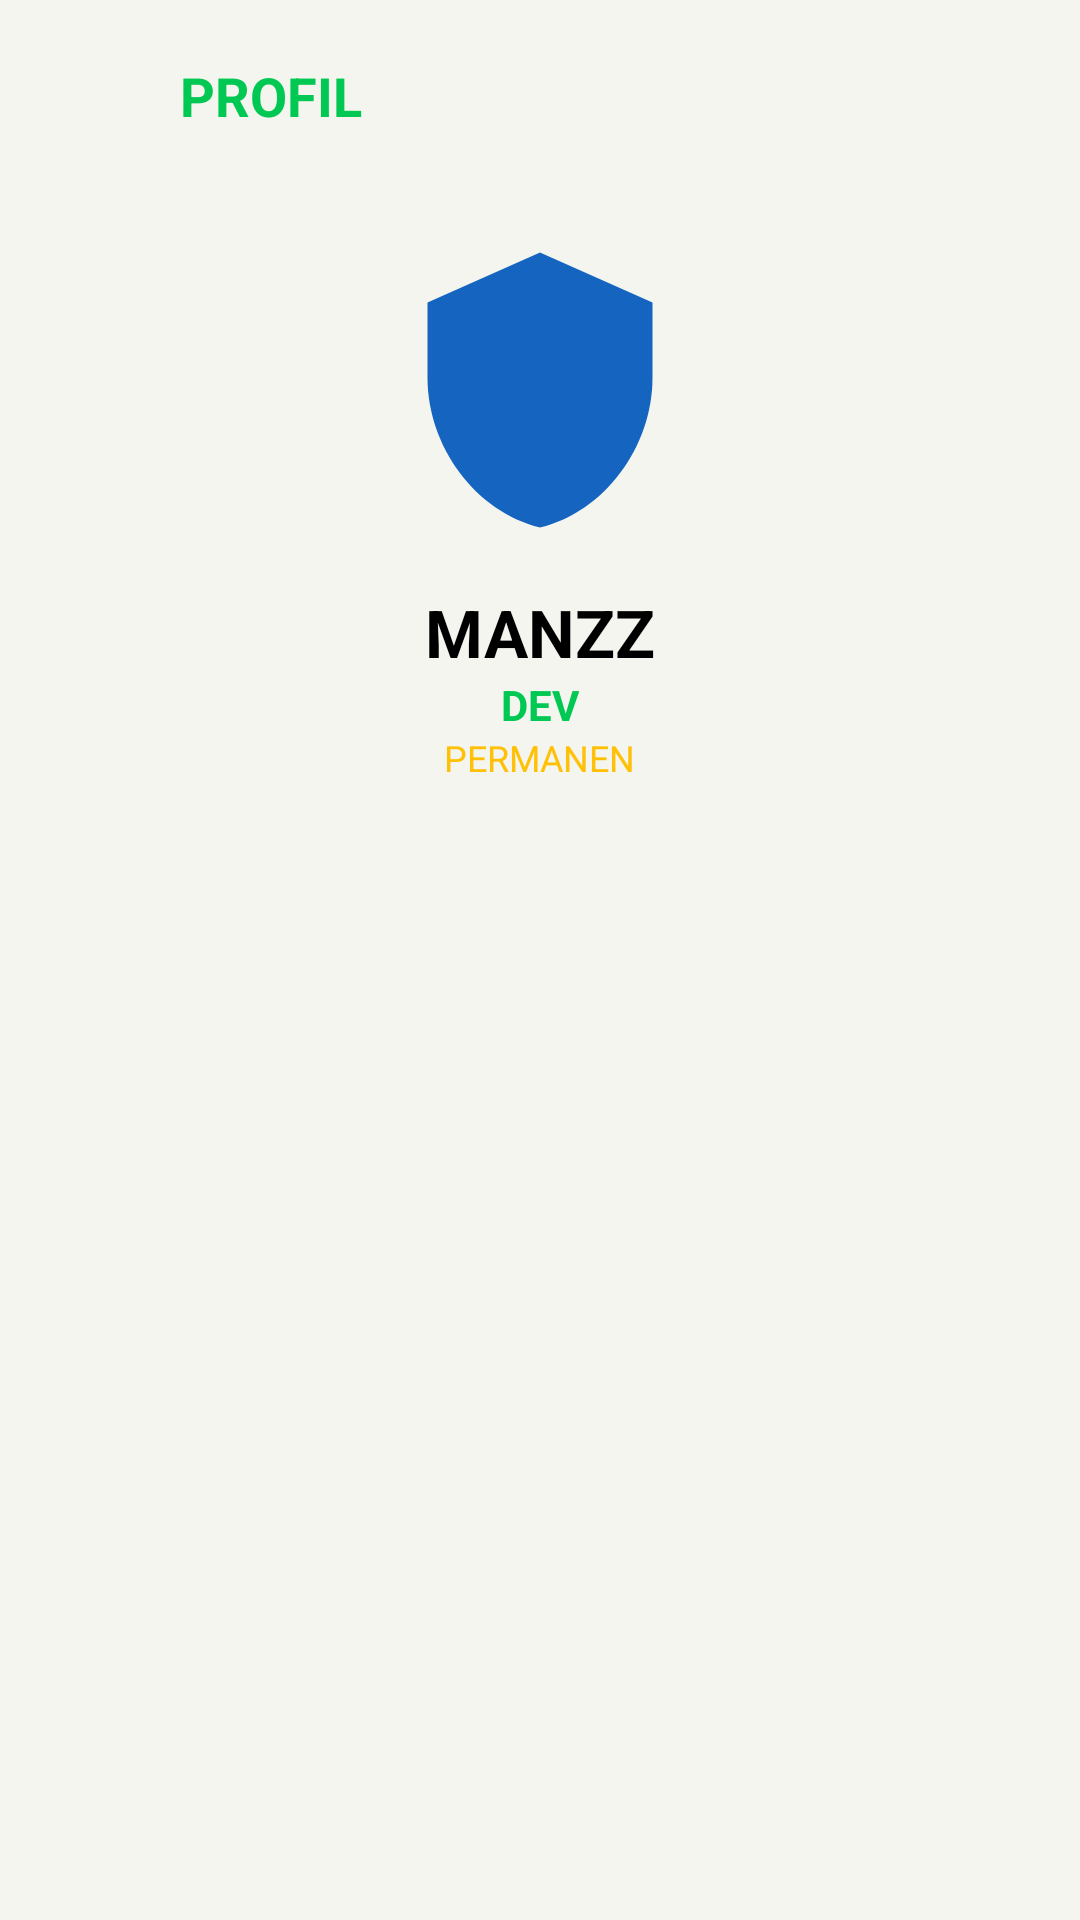

Locate icon controls on the screen. Image size 1080×1920, boxes as (x1, y1, x2, y2).
shield: (427, 252, 653, 528)
